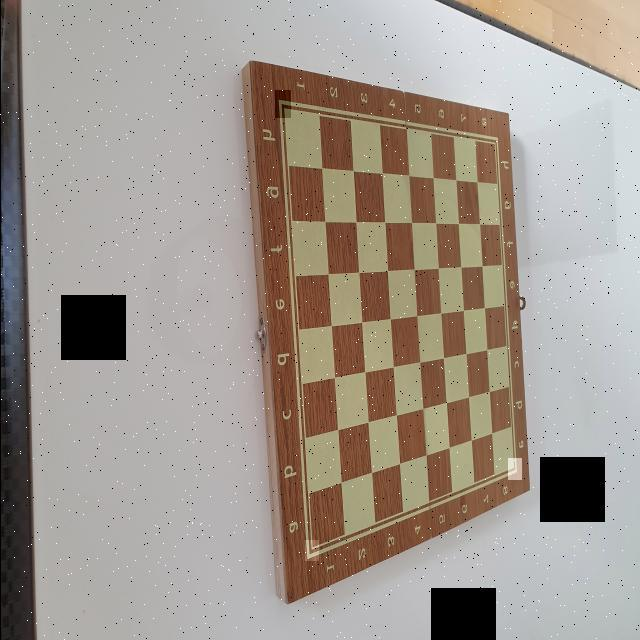chess-table-corners: (274, 90, 290, 118), (487, 130, 503, 152), (507, 458, 521, 480), (304, 540, 318, 561)
